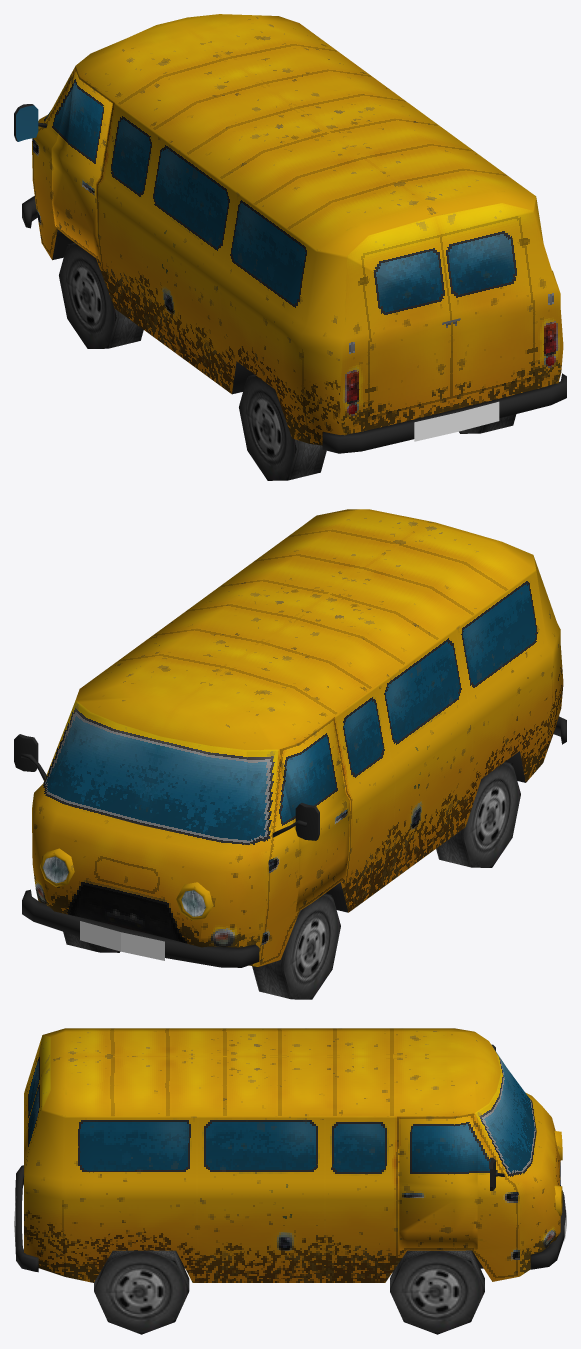
Rendered from uaz_452.glb.
3 views of the same model, one above another, from view 1: azimuth 30°, elevation 25°; view 2: azimuth 150°, elevation 25°; view 3: azimuth 270°, elevation 25° (orthographic). The views are drawn at different scales.
Visible parts, largest first — view 1: body, door_FL, wheel_RL, wheel_FL; view 2: body, door_FL, wheel_FL, wheel_RL; view 3: body, door_FR, wheel_FR, wheel_RR.
Boxes of the visible parts, <box> form: body: <box>14,14,566,453</box>; door_FL: <box>51,67,112,260</box>; wheel_RL: <box>239,374,326,480</box>; wheel_FL: <box>59,243,143,348</box>; body: <box>14,509,566,967</box>; door_FL: <box>278,720,349,911</box>; wheel_FL: <box>252,893,340,999</box>; wheel_RL: <box>436,761,520,867</box>; body: <box>14,1028,566,1282</box>; door_FR: <box>399,1114,477,1250</box>; wheel_FR: <box>390,1250,484,1334</box>; wheel_RR: <box>94,1250,189,1334</box>.
Bounding box in the file's own units: 2.28 × 2.03 × 4.37.
8 materials, 3 textured.
